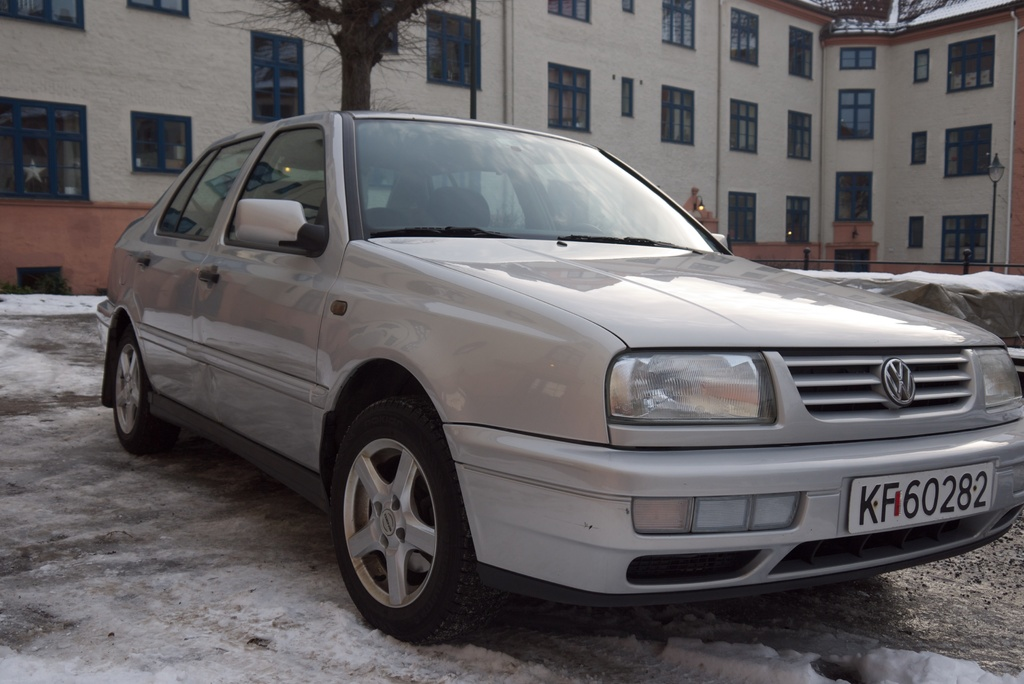Car: (94, 110, 1023, 638)
